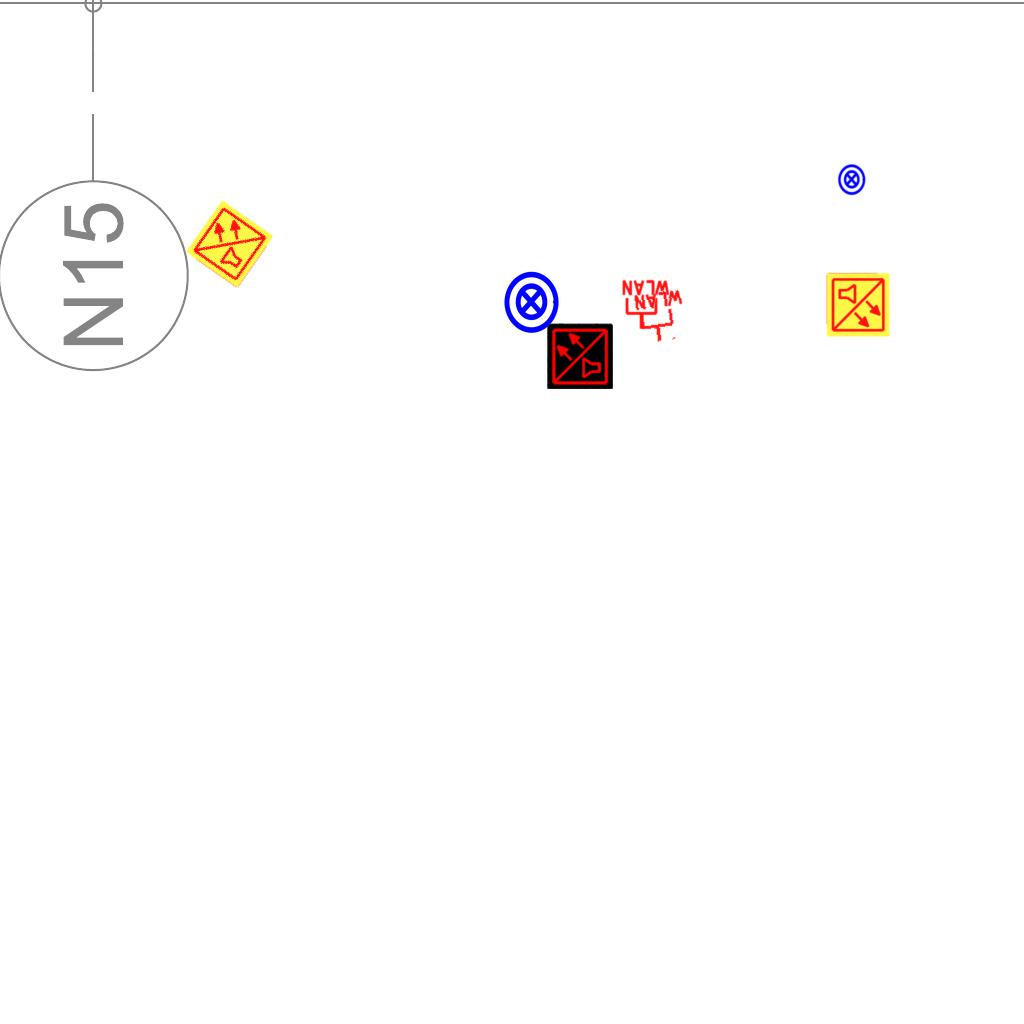OKW_Multisensormelder_(Kombination_optischer_Rauch-Kahlenmonoxid_Waerme-Melder): (184, 198, 276, 290), (547, 323, 613, 389), (825, 272, 891, 338)
Taster_beleuchtet: (498, 269, 564, 335), (835, 163, 868, 196)
WLAN: (631, 287, 691, 347), (620, 279, 672, 331)
